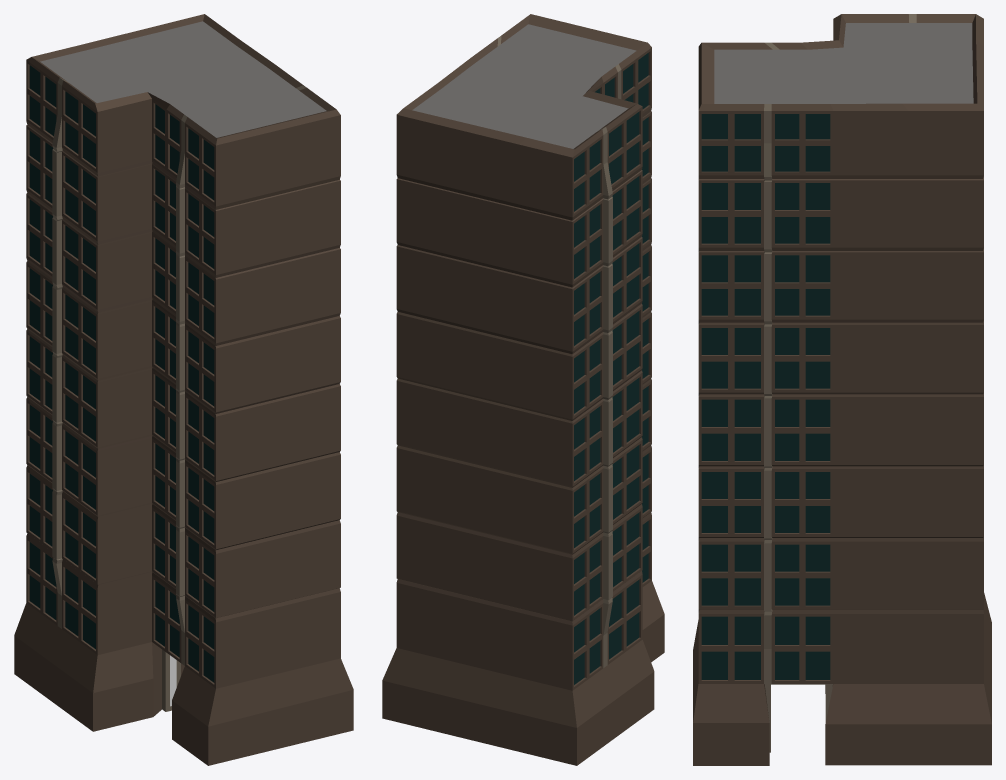
The picture shows the model from 3 angles, left to right: view 1: azimuth 30°, elevation 25°; view 2: azimuth 150°, elevation 25°; view 3: azimuth 270°, elevation 25°; orthographic projection. The views are drawn at different scales.
Visible parts, largest first — view 1: Cube; view 2: Cube; view 3: Cube.
Boxes of the visible parts, box(x1,y1,x2,y2) form: Cube: box(14, 14, 353, 765); Cube: box(382, 14, 664, 765); Cube: box(693, 14, 991, 765).
Bounding box in the file's own units: 550 × 1646 × 680.
